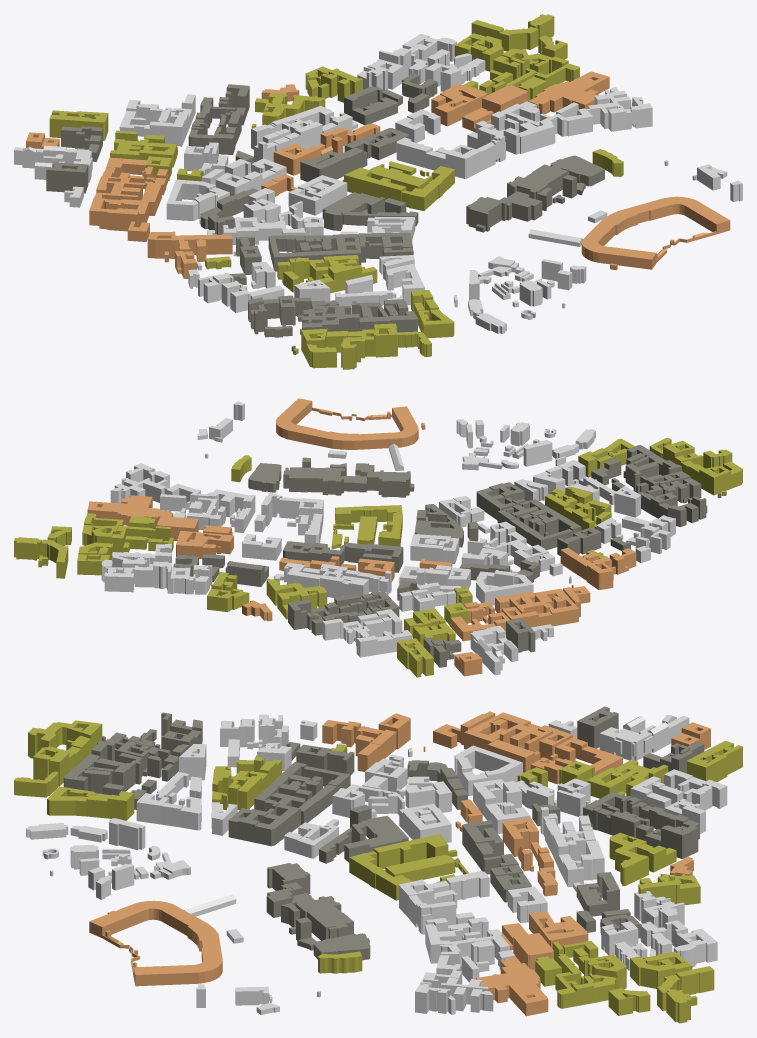
The model's file is map_colored.glb.
3 views of the same model, one above another, from view 1: azimuth 30°, elevation 25°; view 2: azimuth 150°, elevation 25°; view 3: azimuth 270°, elevation 25° (orthographic). The views are drawn at different scales.
Parts seen in each view (by area): view 1: map (2)_buildings.387, map (2)_buildings.506, map (2)_buildings.044, map (2)_buildings.366, map (2)_buildings.420, map (2)_buildings.466, map (2)_buildings.147, map (2)_buildings.511, map (2)_buildings.505, map (2)_buildings.470, map (2)_buildings.417, map (2)_buildings.274 (+36 smaller); view 2: map (2)_buildings.387, map (2)_buildings.420, map (2)_buildings.506, map (2)_buildings.147, map (2)_buildings.366, map (2)_buildings.505, map (2)_buildings.470, map (2)_buildings.274, map (2)_buildings.044, map (2)_buildings.426, map (2)_buildings.373, map (2)_buildings.273 (+35 smaller); view 3: map (2)_buildings.387, map (2)_buildings.506, map (2)_buildings.147, map (2)_buildings.420, map (2)_buildings.505, map (2)_buildings.466, map (2)_buildings.044, map (2)_buildings.470, map (2)_buildings.366, map (2)_buildings.274, map (2)_buildings.191, map (2)_buildings.426 (+73 smaller).
Boxes of the visible parts, x1,y1,x2,y2 form: map (2)_buildings.387: [581, 196, 730, 269]; map (2)_buildings.506: [528, 71, 609, 114]; map (2)_buildings.044: [166, 179, 215, 220]; map (2)_buildings.366: [435, 84, 487, 126]; map (2)_buildings.420: [507, 164, 569, 199]; map (2)_buildings.466: [344, 167, 406, 201]; map (2)_buildings.147: [262, 93, 325, 125]; map (2)_buildings.511: [46, 162, 88, 193]; map (2)_buildings.505: [49, 110, 108, 140]; map (2)_buildings.470: [409, 166, 454, 210]; map (2)_buildings.417: [466, 197, 506, 231]; map (2)_buildings.274: [297, 175, 347, 212]; map (2)_buildings.387: [276, 398, 418, 449]; map (2)_buildings.420: [283, 467, 345, 495]; map (2)_buildings.506: [87, 495, 173, 526]; map (2)_buildings.147: [266, 578, 327, 613]; map (2)_buildings.366: [176, 530, 233, 558]; map (2)_buildings.505: [397, 638, 433, 677]; map (2)_buildings.470: [335, 505, 402, 524]; map (2)_buildings.274: [410, 534, 450, 561]; map (2)_buildings.044: [476, 574, 533, 605]; map (2)_buildings.426: [557, 527, 601, 555]; map (2)_buildings.373: [625, 453, 666, 491]; map (2)_buildings.273: [248, 463, 281, 492]; map (2)_buildings.387: [89, 900, 222, 986]; map (2)_buildings.506: [476, 957, 548, 1016]; map (2)_buildings.147: [609, 832, 666, 885]; map (2)_buildings.420: [295, 896, 353, 940]; map (2)_buildings.505: [687, 740, 742, 781]; map (2)_buildings.466: [373, 834, 448, 868]; map (2)_buildings.044: [454, 745, 522, 782]; map (2)_buildings.470: [349, 853, 411, 900]; map (2)_buildings.366: [529, 911, 588, 948]; map (2)_buildings.274: [403, 808, 451, 842]; map (2)_buildings.191: [255, 804, 300, 846]; map (2)_buildings.426: [296, 744, 354, 774].
Bounding box in the file's own units: 1058 × 45.09 × 1105.
